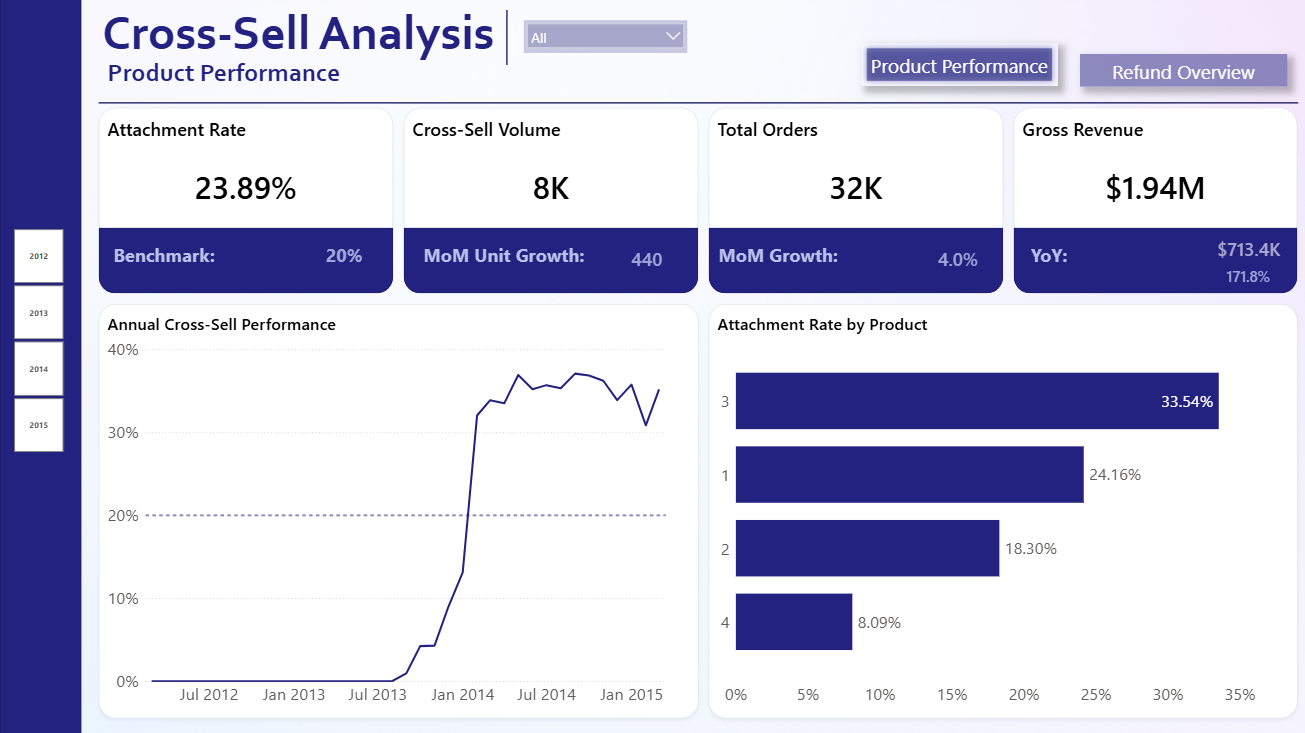

The page's visual inventory and layout, read from the dashboard file:
{"tool":"powerbi","page":{"name":"Page 1","canvas":[1920,1080],"ordinal":0},"visuals":[{"type":"lineChart","title":"Annual Cross-Sell Performance","fields":{"Y":["Measures (2).Attachment_rate"],"Category":["prd_performance_fact (dup).date.Variation.Date Hierarchy.Year","prd_performance_fact (dup).date.Variation.Date Hierarchy.Month"]},"box":[144,448,880,608],"z":0},{"type":"clusteredBarChart","title":"Attachment Rate by Product","fields":{"Category":["prd_performance_fact (dup).primary_product_id"],"Y":["Measures (2).Attachment_rate"]},"box":[1040,448,864,608],"z":1000},{"type":"shape","box":[0,0,119.2,1080.4],"z":2000},{"type":"slicer","fields":{"Values":["prd_performance_fact (dup).date.Variation.Date Hierarchy.Year"]},"box":[0,336,112,331],"z":3000},{"type":"slicer","fields":{"Values":["prd_performance_fact (dup).date.Variation.Date Hierarchy.Month"]},"box":[768,32,240,48],"z":4000},{"type":"card","title":"Attachment Rate","fields":{"Values":["Measures (2).Attachment_rate"]},"box":[144,160,432,192],"z":5000,"group":"g1"},{"type":"card","title":"Total Orders","fields":{"Values":["Measures (2).Total_orders"]},"box":[1040,160,432,192],"z":5000},{"type":"card","title":"Gross Revenue","fields":{"Values":["Measures (2).Total_revenue"]},"box":[1488,160,416,192],"z":6000},{"type":"card","title":"Cross-Sell Volume","fields":{"Values":["Measures (2).Total_Cross_sell"]},"box":[592,160,432,192],"z":7000},{"type":"textbox","box":[144,0,640,128],"z":8000},{"type":"shape","box":[144,128,1760,48],"z":9000},{"type":"textbox","box":[144,80,512,80],"z":10000},{"type":"group","id":"g1","title":"Group 1","box":[144,160,632.8,496],"z":11000},{"type":"shape","box":[144,336,432,96],"z":12000,"group":"g1"},{"type":"shape","box":[1040,336,432,96],"z":12000},{"type":"shape","box":[1488,336,416,96],"z":13000},{"type":"textbox","box":[160,352,304,304],"z":13000,"group":"g1"},{"type":"shape","box":[592,336,432,96],"z":14000},{"type":"textbox","box":[472.3,352.6,304.5,302.7],"z":14000,"group":"g1"},{"type":"textbox","box":[1049.2,352.2,302.7,304.5],"z":15000},{"type":"textbox","box":[1507.8,352.2,304.5,304.5],"z":16000},{"type":"textbox","box":[616.3,352.2,304.5,304.5],"z":17000},{"type":"card","fields":{"Values":["Measures (2).Yoy_growth%"]},"box":[1776,368,112,80],"z":18000},{"type":"card","fields":{"Values":["Measures (2).Volume_pm"]},"box":[799.7,232.9,299,299],"z":19000},{"type":"card","fields":{"Values":["Measures (2).Orders_MoM_growth%"]},"box":[1256.5,232.9,299,299],"z":20000},{"type":"card","fields":{"Values":["Measures (2).YoY"]},"box":[1744,336,176,64],"z":21000},{"type":"shape","box":[688,16,112,80],"z":22000},{"type":"actionButton","box":[1584,80,304,48],"z":23000},{"type":"actionButton","box":[1264,64,288,64],"z":24000}]}

Visuals, with their boxes in screenshot pixels (x1, y1, x2, y2), scaled from the page's 1920x1080 canvas onto the 1305x733 screenshot:
"Annual Cross-Sell Performance" lineChart: 98,304,696,717
"Attachment Rate by Product" clusteredBarChart: 707,304,1294,717
shape: 0,0,81,732
slicer - prd_performance_fact (dup).date.Variation.Date Hierarchy.Year: 0,228,76,453
slicer - prd_performance_fact (dup).date.Variation.Date Hierarchy.Month: 522,22,685,54
"Attachment Rate" card: 98,109,392,239
"Total Orders" card: 707,109,1000,239
"Gross Revenue" card: 1011,109,1294,239
"Cross-Sell Volume" card: 402,109,696,239
textbox: 98,0,533,87
shape: 98,87,1294,119
textbox: 98,54,446,109
"Group 1" group: 98,109,528,445
shape: 98,228,392,293
shape: 707,228,1000,293
shape: 1011,228,1294,293
textbox: 109,239,315,445
shape: 402,228,696,293
textbox: 321,239,528,445
textbox: 713,239,919,446
textbox: 1025,239,1232,446
textbox: 419,239,626,446
card - Measures (2).Yoy_growth%: 1207,250,1283,304
card - Measures (2).Volume_pm: 544,158,747,361
card - Measures (2).Orders_MoM_growth%: 854,158,1057,361
card - Measures (2).YoY: 1185,228,1304,271
shape: 468,11,544,65
actionButton: 1077,54,1283,87
actionButton: 859,43,1055,87
